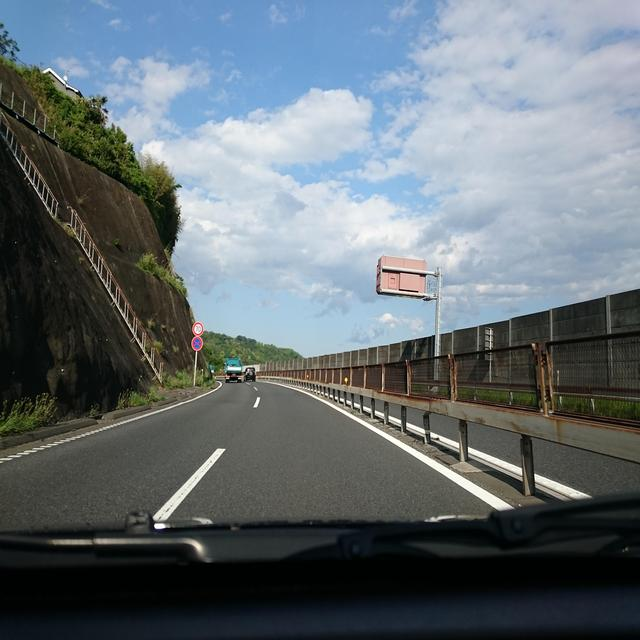Barrier: (255, 376, 639, 494)
Car: (243, 368, 255, 380)
Vegetation: (0, 392, 57, 439)
